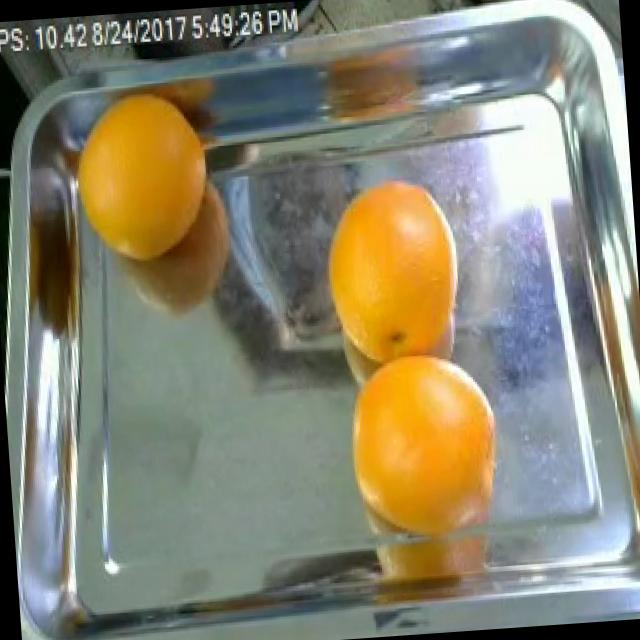Fruit: (305, 153, 468, 380), (64, 72, 224, 300)
